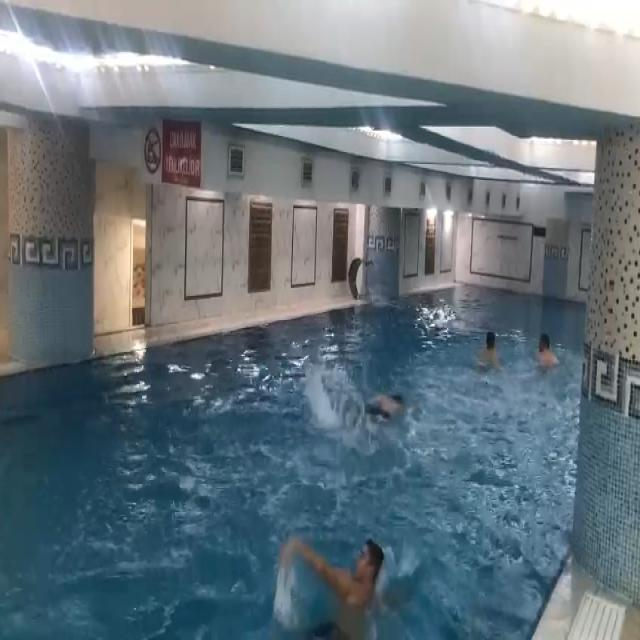Swimming: (274, 520, 389, 640), (353, 382, 407, 427)
